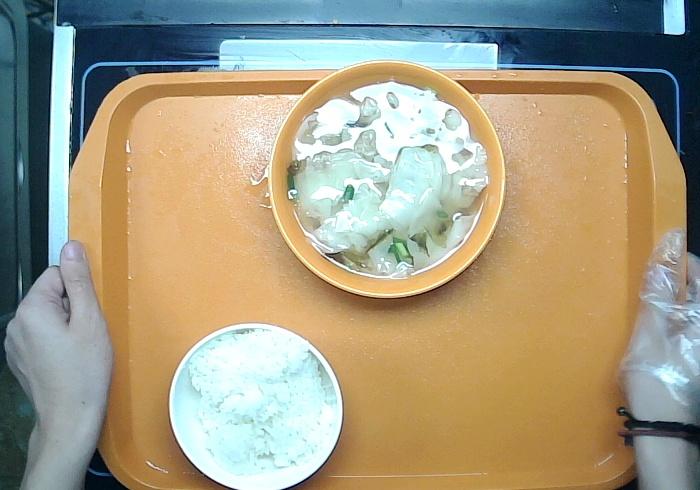NLDX-Fan_Wan: (158, 315, 351, 490)
NLDX-Hun_Tun_Wan: (259, 53, 511, 310)
